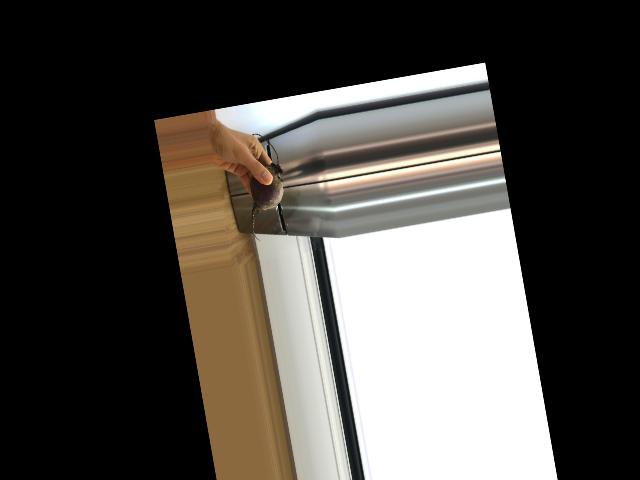beet: (236, 130, 293, 242)
